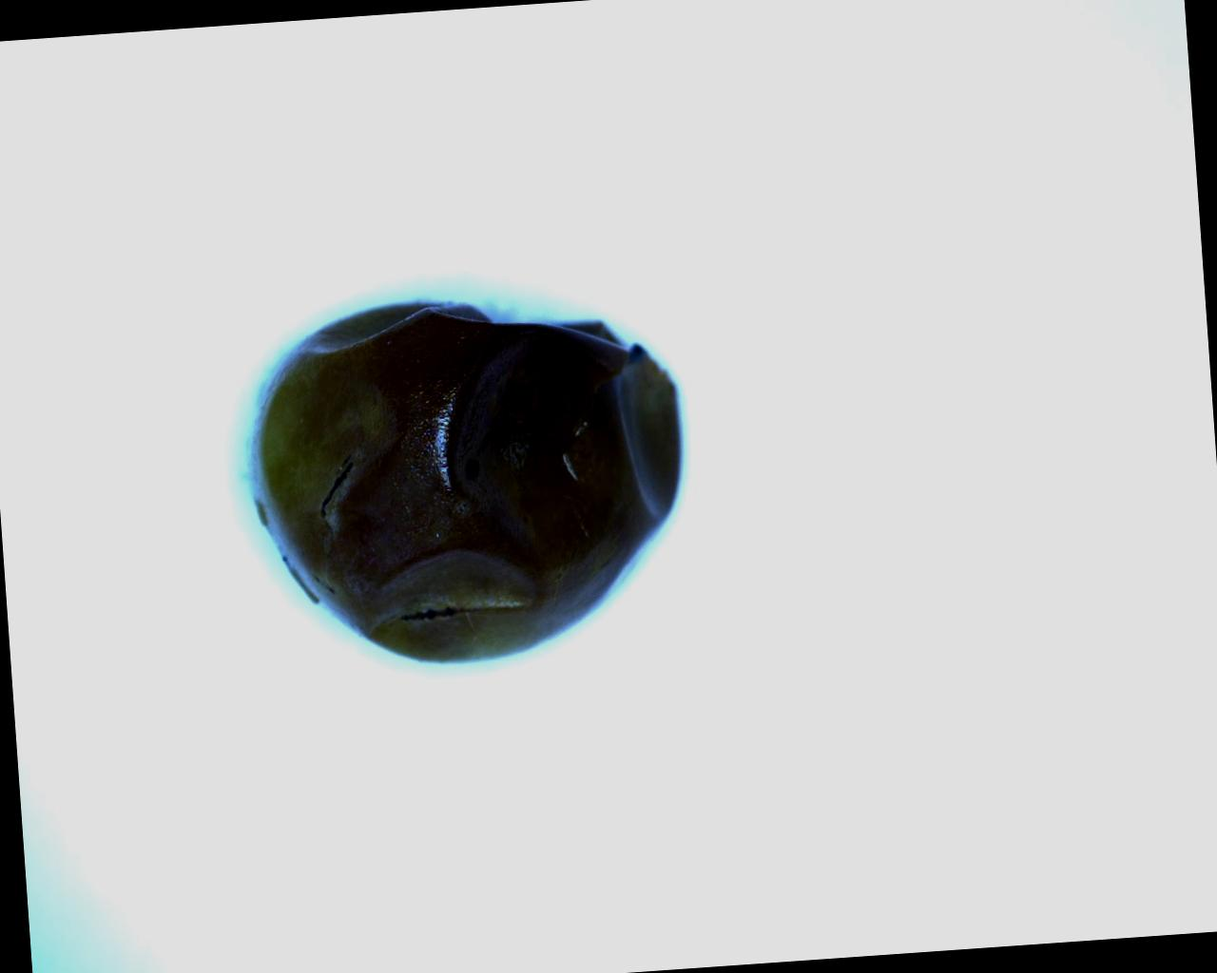Grape Rotten: (235, 280, 699, 677)
